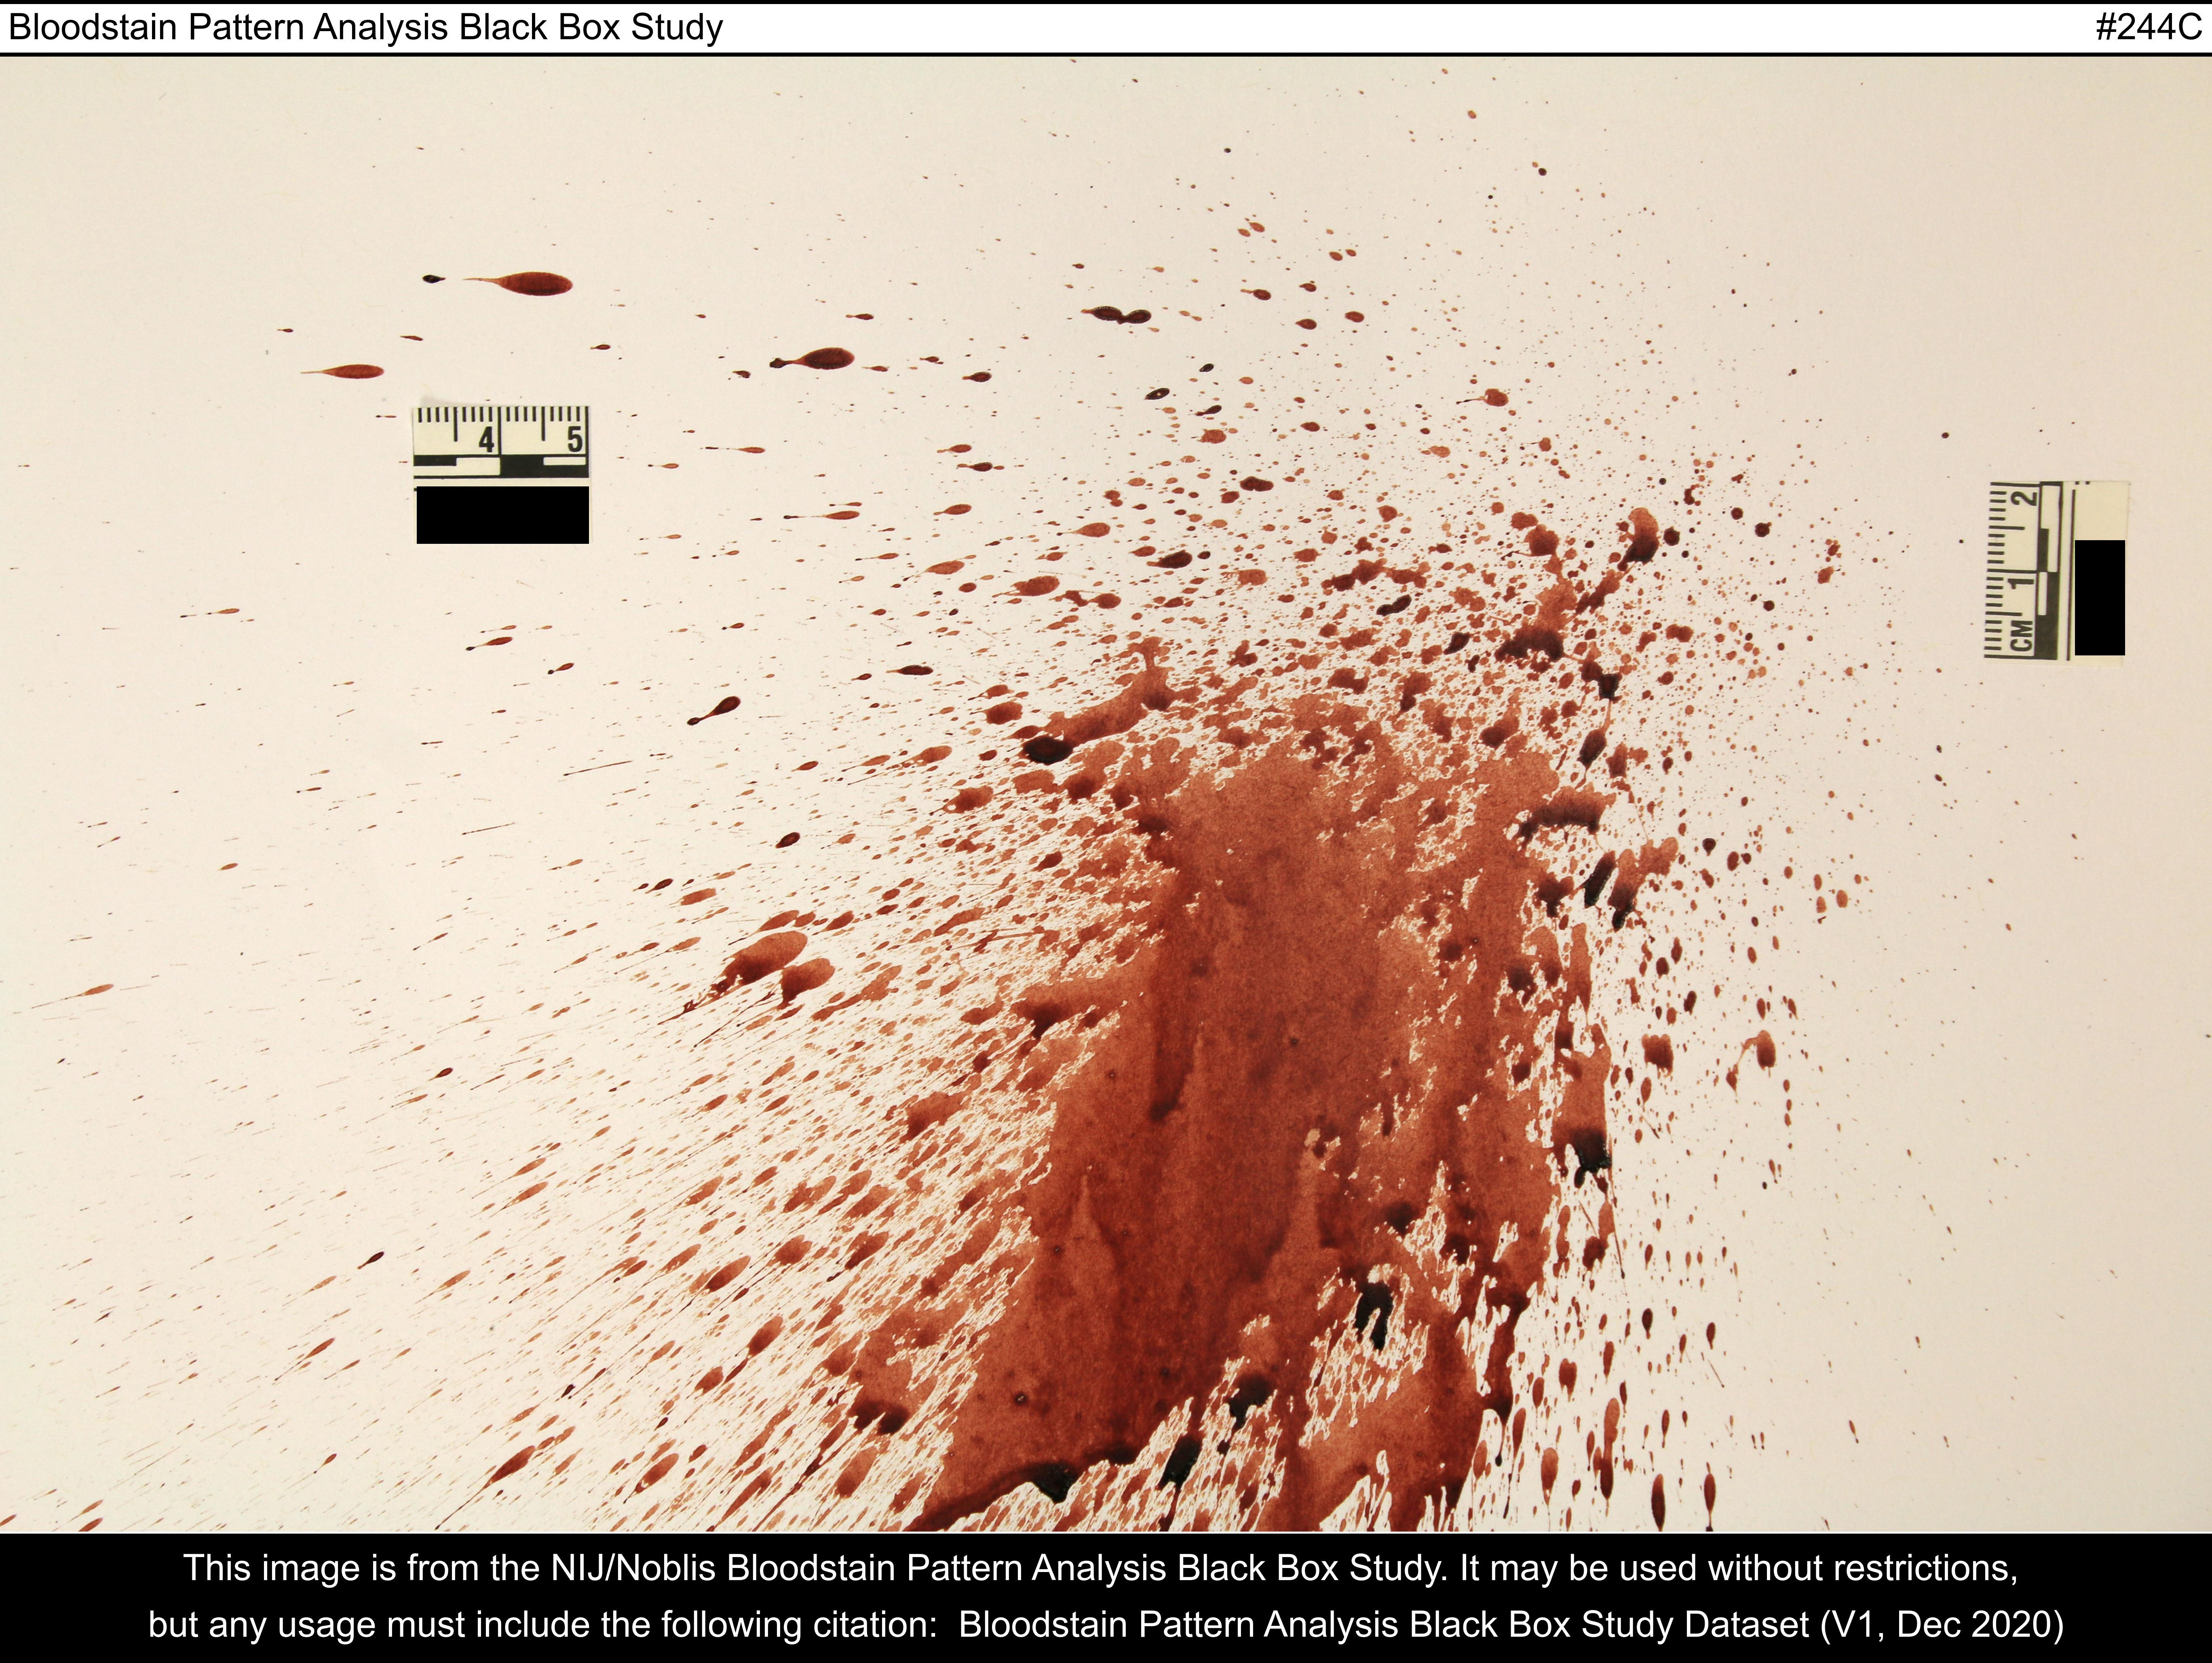Passive: (299, 245, 1922, 1532)
